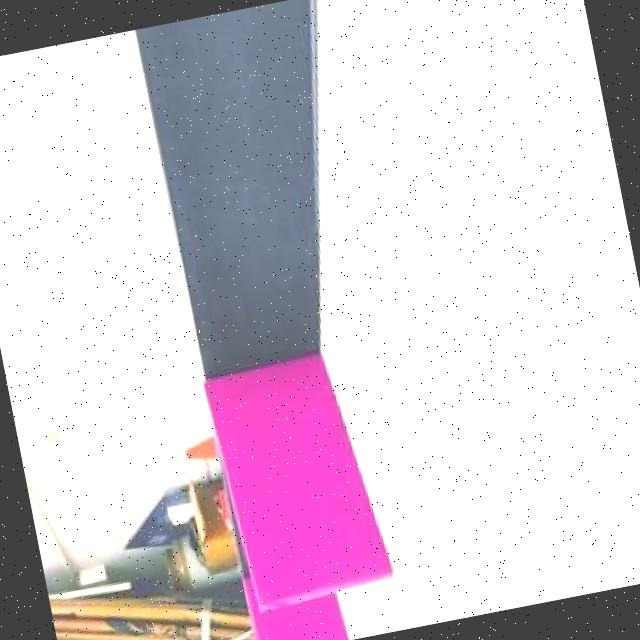xparking: (202, 352, 381, 614)
